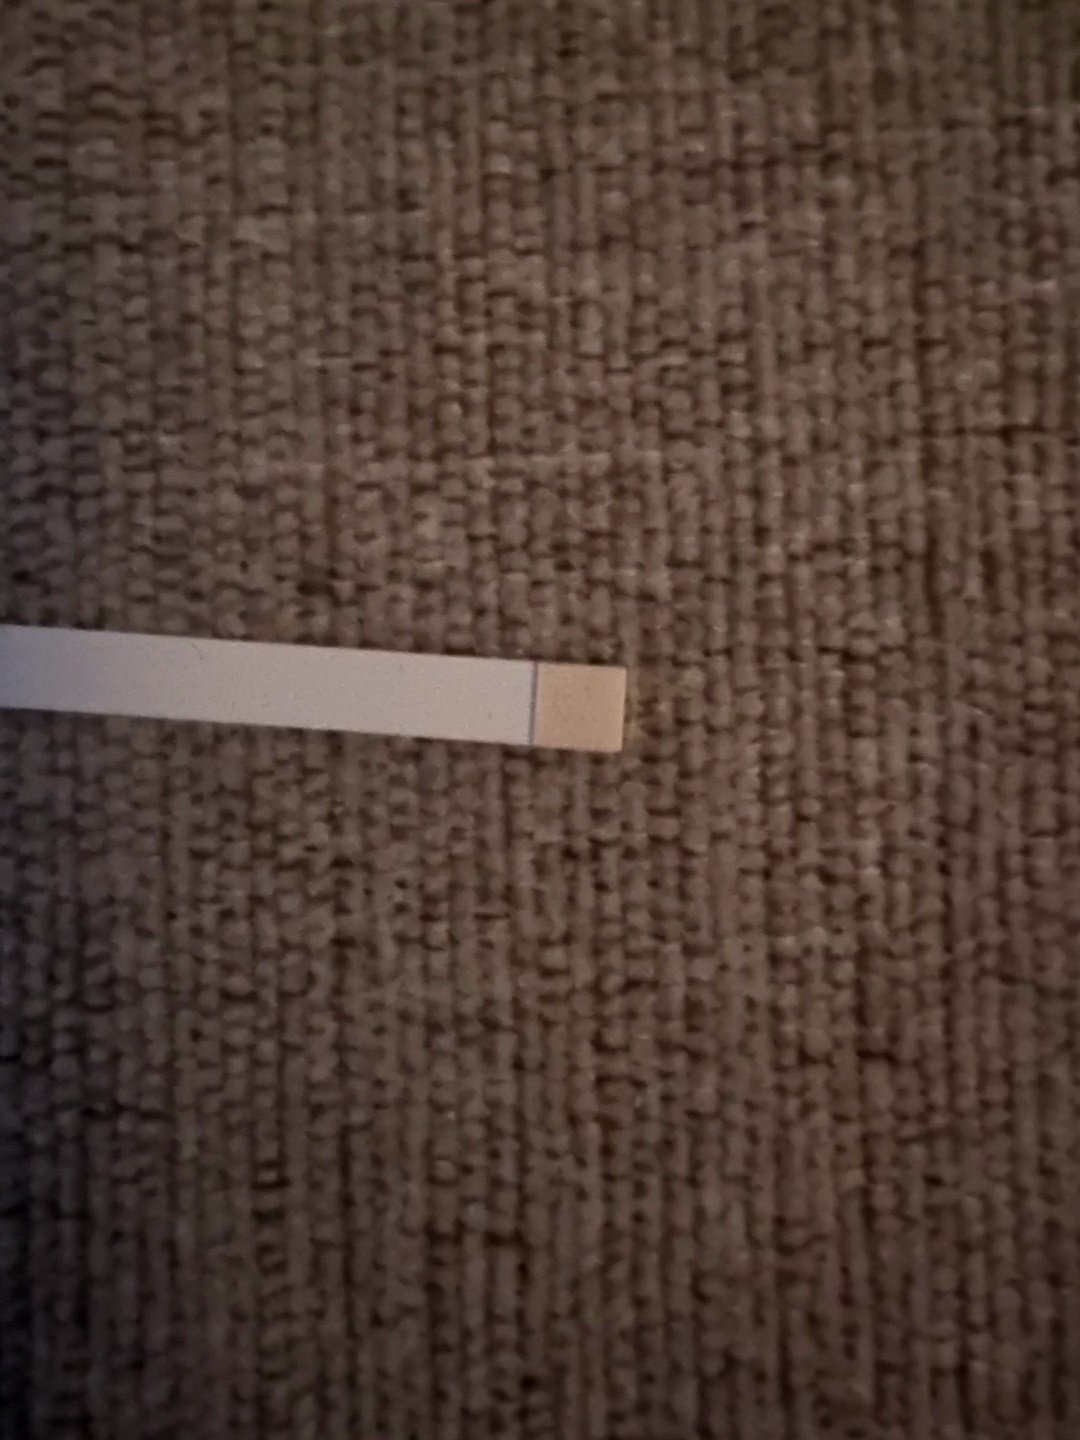keto-tip: (526, 652, 628, 759)
